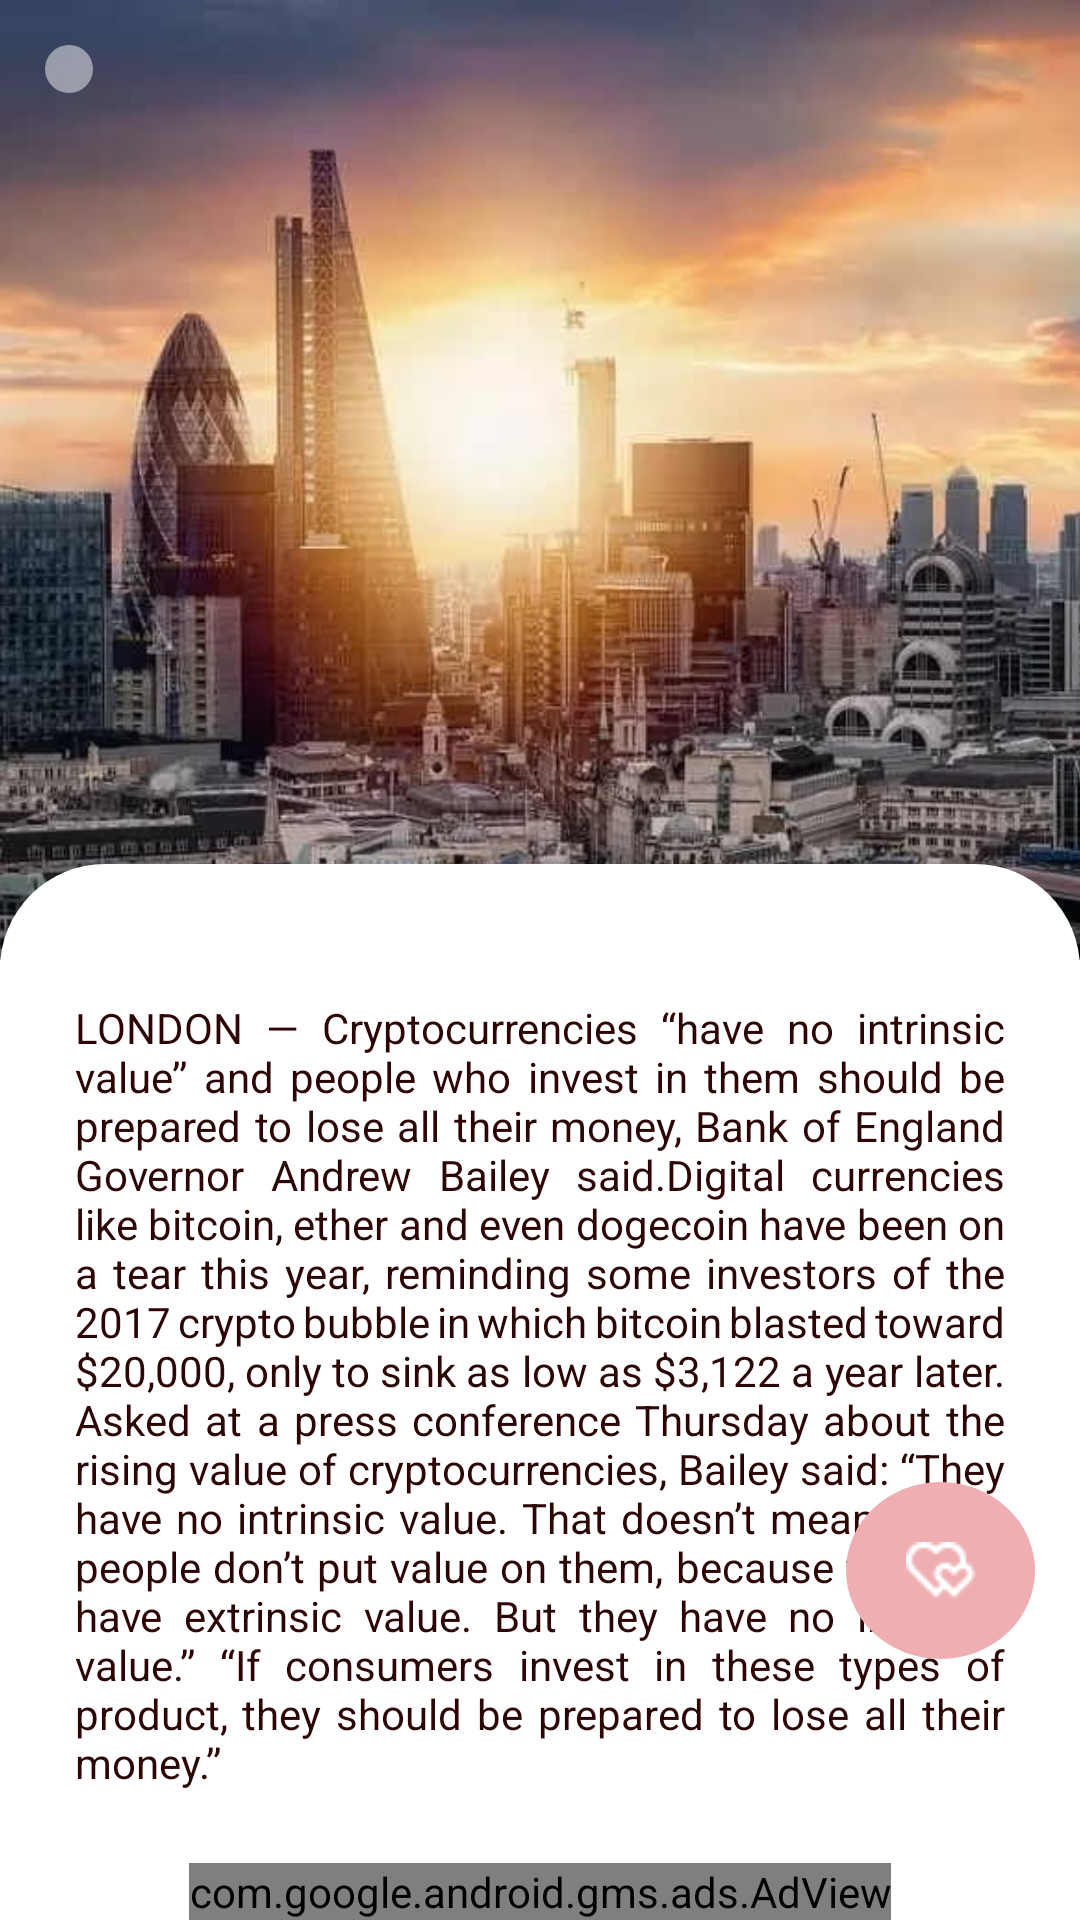

Named icons in this screenshot (1080px x 1920px) and their bounding boxes, (x1, y1, x2, y2):
favotiteimg: (846, 1482, 1035, 1659)
